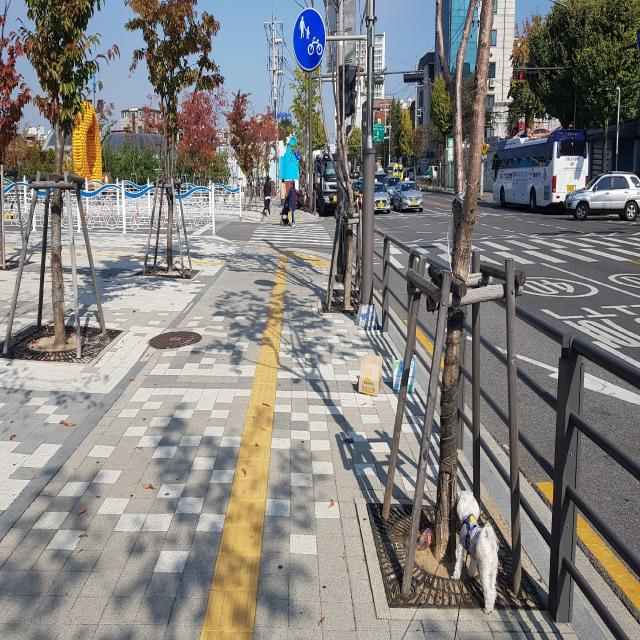횡단보도: (248, 222, 336, 246)
